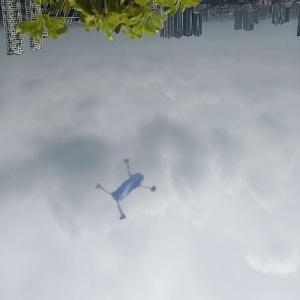drone: (85, 145, 177, 237)
